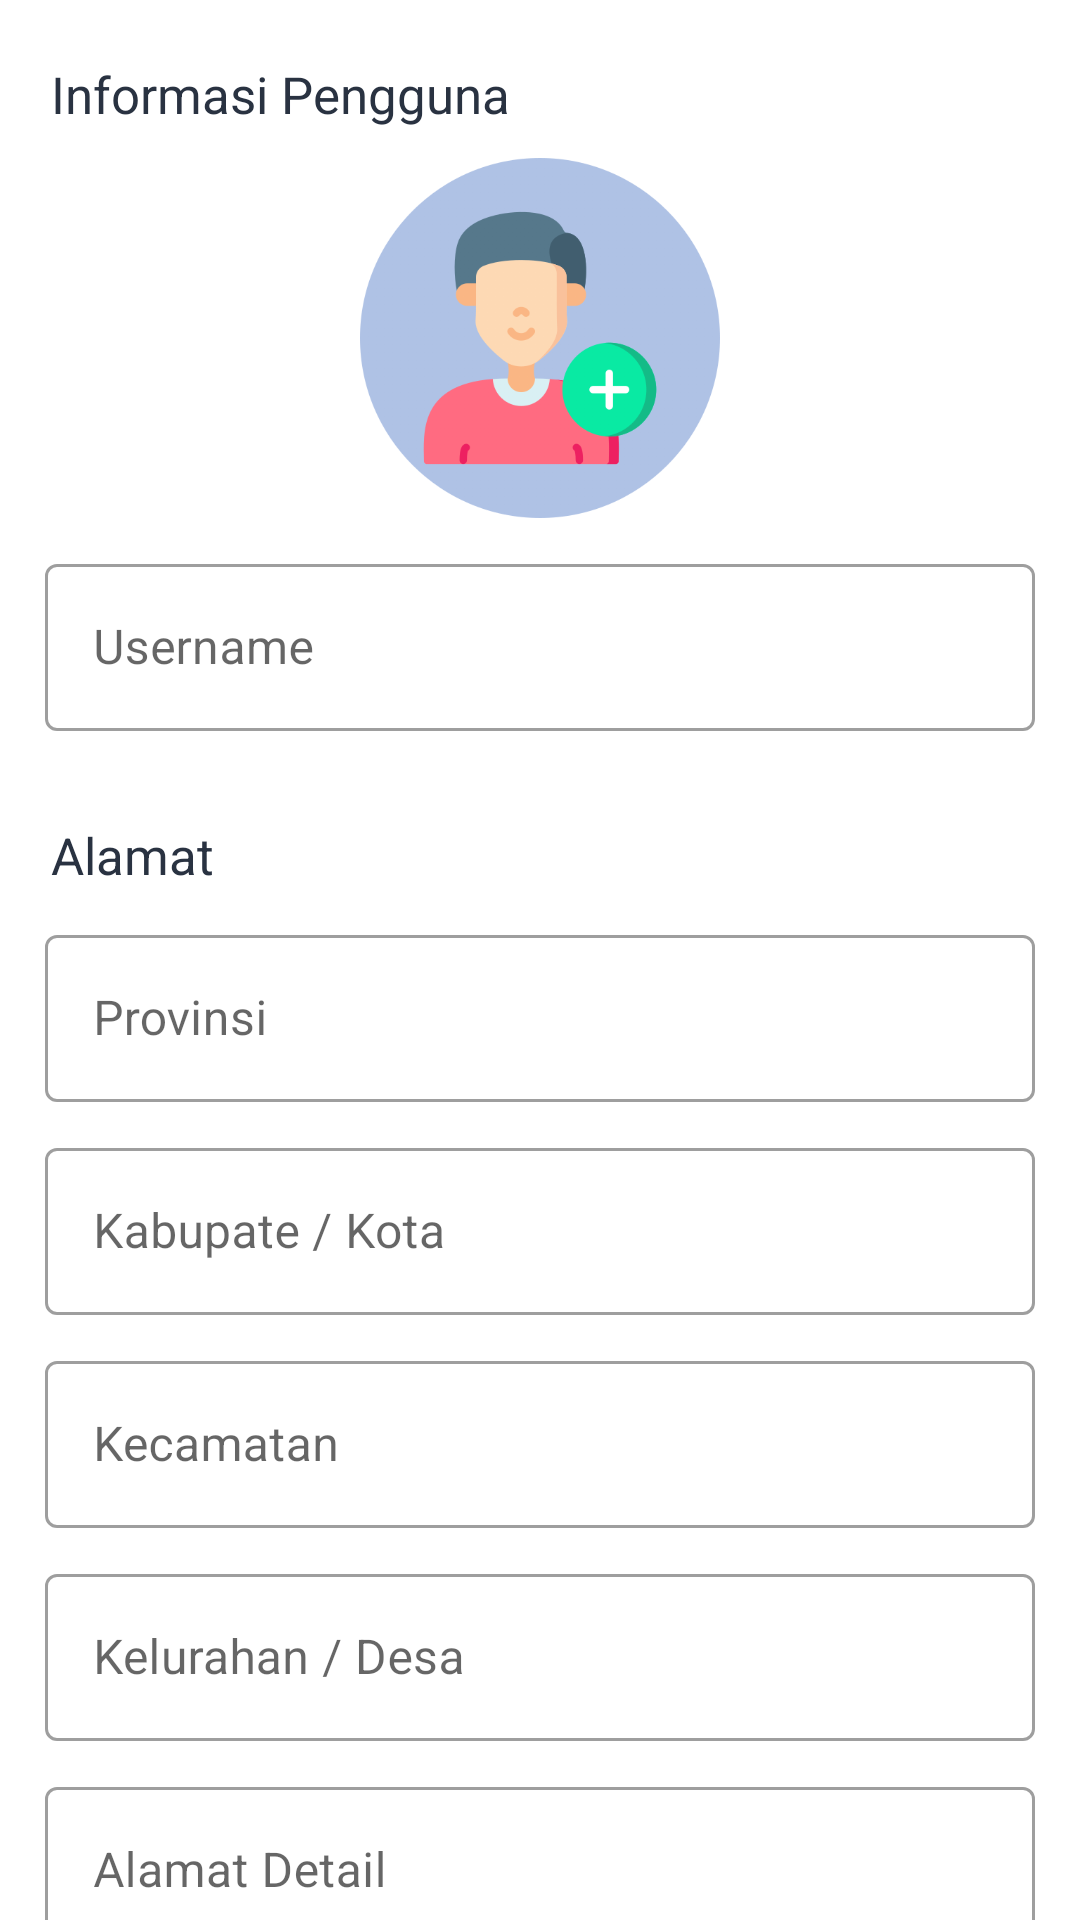

Where to tap for icons on this 1080w x 1920h app screen, as point (x, y):
add student: point (540, 338)
